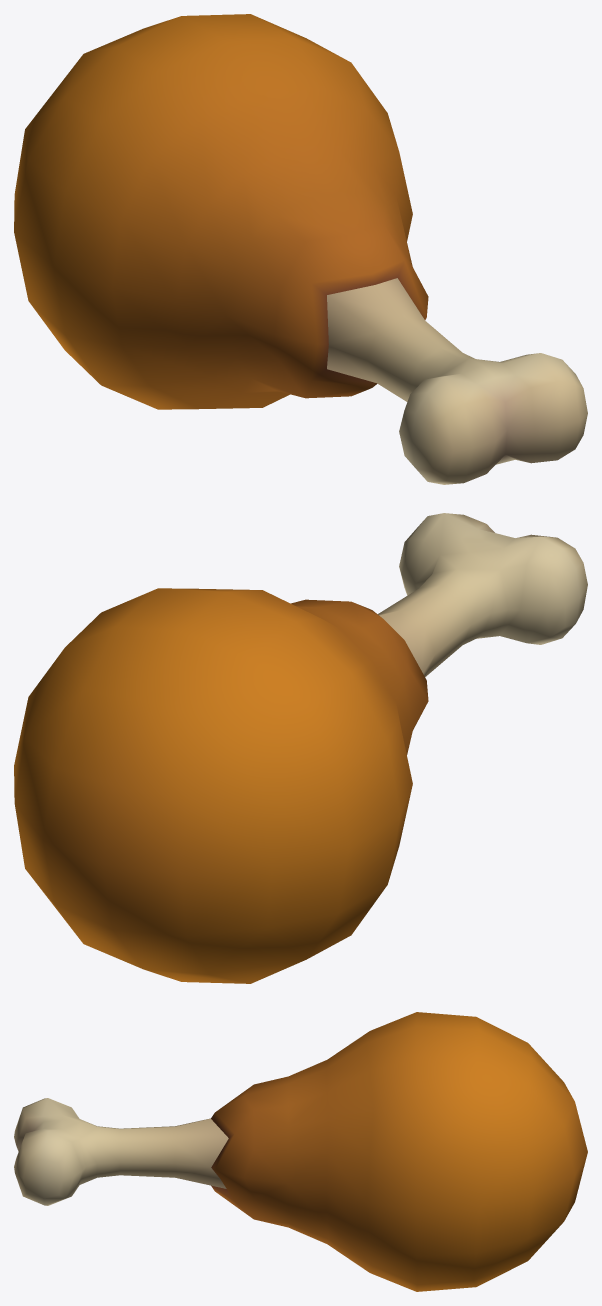
File: Melee_Chickenleg.fbx
The picture shows the model from 3 angles, top to bottom: view 1: azimuth 30°, elevation 25°; view 2: azimuth 150°, elevation 25°; view 3: azimuth 270°, elevation 25°; orthographic projection. The views are drawn at different scales.
Visible parts, largest first — view 1: Melee_Chickenleg; view 2: Melee_Chickenleg; view 3: Melee_Chickenleg.
Part boxes in pixels (x1,y1,x2,y2): Melee_Chickenleg: (14,14,587,484); Melee_Chickenleg: (14,513,587,983); Melee_Chickenleg: (14,1012,587,1291).
Size of the model in its own units: 0.4891 by 0.4891 by 1.01.
